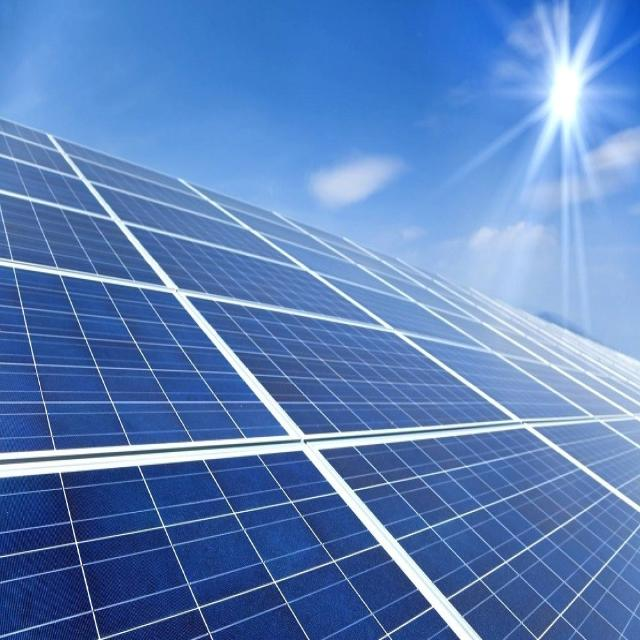clean-solar-panel: (1, 119, 640, 637)
